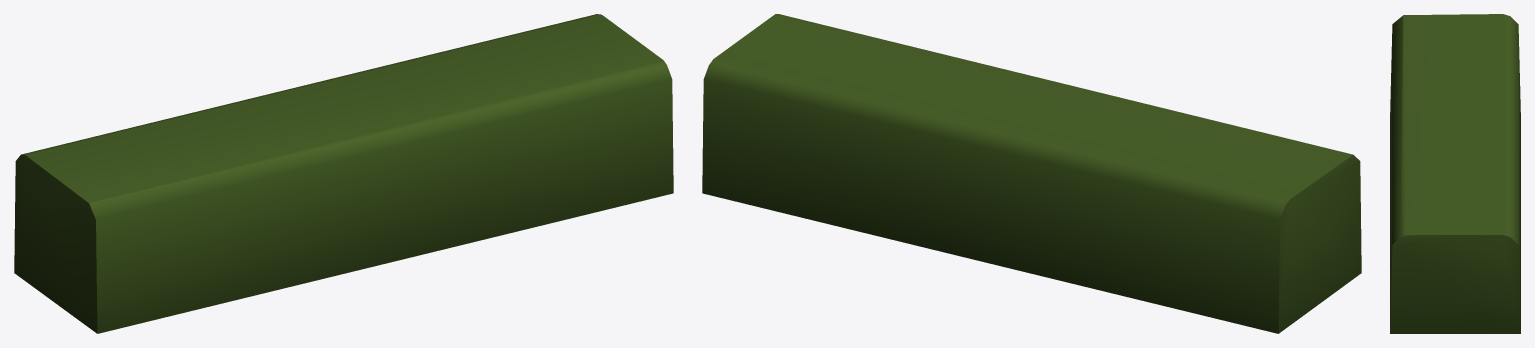
Rendered from hang_rao_cong_vien.far.glb.
The picture shows the model from 3 angles, left to right: view 1: azimuth 30°, elevation 25°; view 2: azimuth 150°, elevation 25°; view 3: azimuth 270°, elevation 25°; orthographic projection. The views are drawn at different scales.
Visible parts, largest first — view 1: hang_rao_cong_vien; view 2: hang_rao_cong_vien; view 3: hang_rao_cong_vien.
Part boxes in pixels (bbox=[...]): hang_rao_cong_vien: bbox=[14, 14, 673, 333]; hang_rao_cong_vien: bbox=[702, 14, 1361, 333]; hang_rao_cong_vien: bbox=[1390, 14, 1520, 333].
Size of the model in its own units: 2 by 0.4183 by 0.5.
